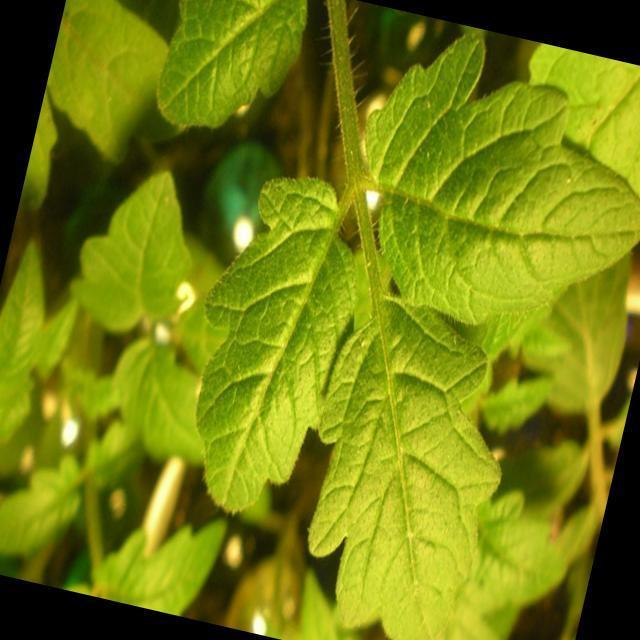Healthy Leaf: (330, 19, 640, 363), (158, 162, 388, 534), (280, 304, 522, 640), (135, 0, 312, 149)
